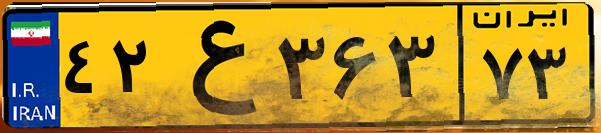2: (110, 28, 158, 98)
3: (270, 28, 330, 110), (385, 28, 445, 110), (525, 38, 570, 115)
4: (57, 26, 110, 100)
6: (330, 28, 385, 110)
7: (475, 38, 525, 113)
ع: (158, 12, 270, 120)
